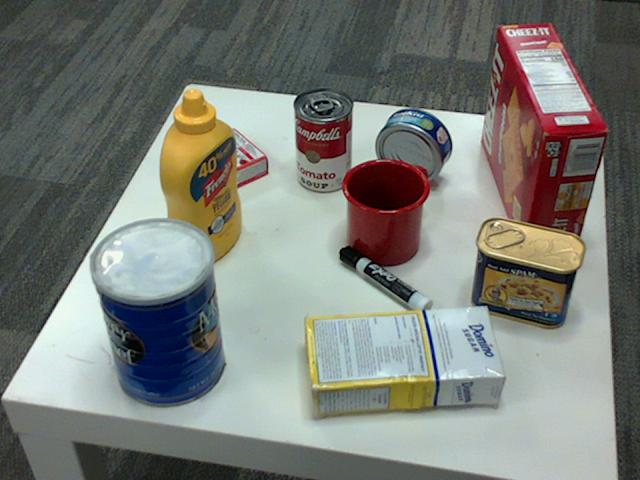cracker_box: (481, 21, 608, 253)
gelatin_box: (173, 125, 268, 197)
large_marker: (339, 247, 432, 320)
master_chef_can: (86, 219, 223, 409)
mug: (339, 157, 428, 263)
mustard_bottle: (157, 88, 241, 269)
potted_meat_can: (469, 217, 584, 328)
sugar_box: (301, 304, 502, 415)
tomato_soup_can: (293, 88, 353, 192)
tuna_fish_can: (374, 107, 450, 183)
